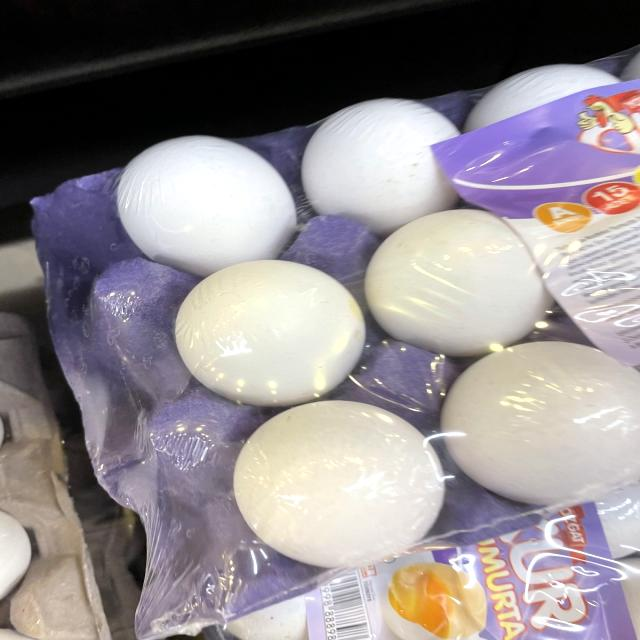egg: (212, 394, 457, 565), (430, 324, 640, 515), (163, 258, 373, 412), (100, 127, 315, 263), (300, 85, 469, 239)
